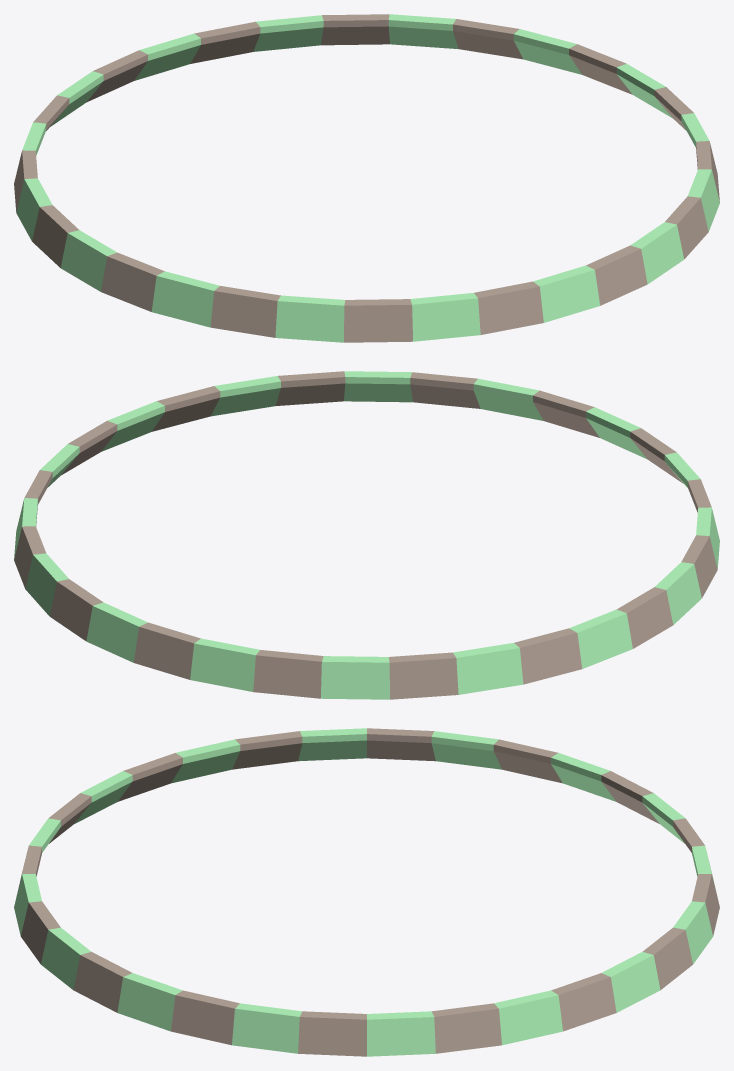
Rendered from FactoryOuterBorder.fbx.
3 views of the same model, one above another, from view 1: azimuth 30°, elevation 25°; view 2: azimuth 150°, elevation 25°; view 3: azimuth 270°, elevation 25° (orthographic).
Parts seen in each view (by area): view 1: FactoryGround.001; view 2: FactoryGround.001; view 3: FactoryGround.001.
Part boxes in pixels (left/top/right/bottom): FactoryGround.001: left=14, top=14, right=719, bottom=342; FactoryGround.001: left=14, top=371, right=719, bottom=699; FactoryGround.001: left=14, top=728, right=719, bottom=1056.
Size of the model in its own units: 128606 by 6736 by 128606.
